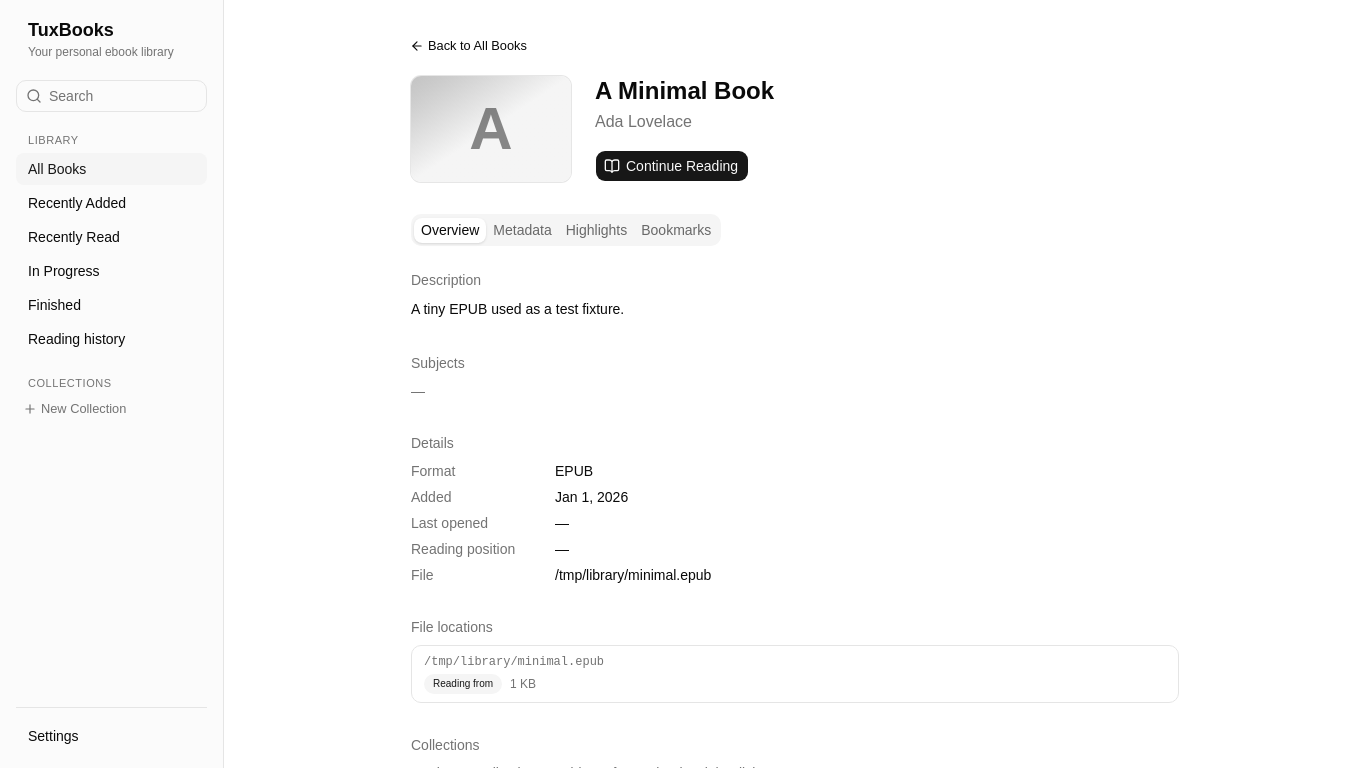
it: BookDetail › enters the reader from Continue Reading
This screenshot has width=1366, height=768.
Expected: the element with test id "book-detail" is shown, [411,32,1179,767]
Click the button with test id "detail-continue".
click(672, 166)  # box [595,150,749,182]
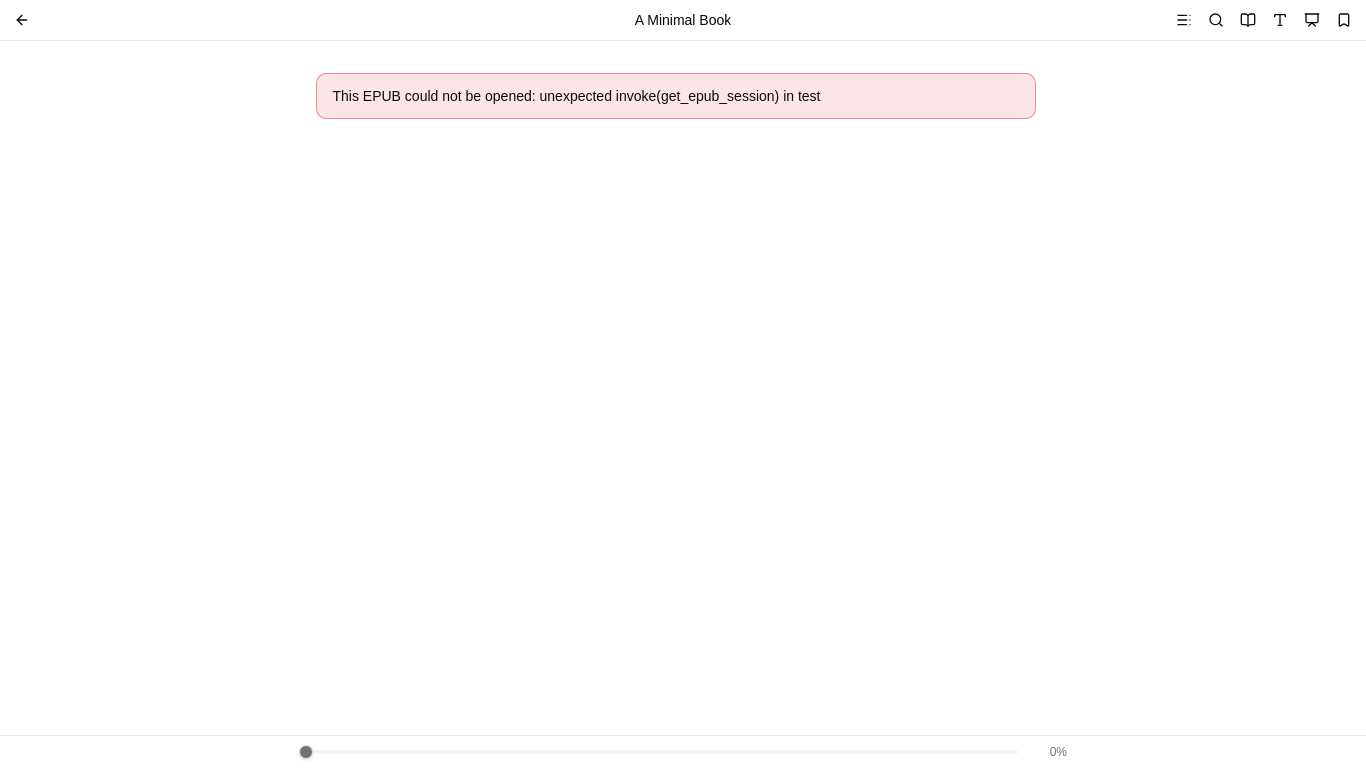
Result: the element with test id "reader-view" is shown
